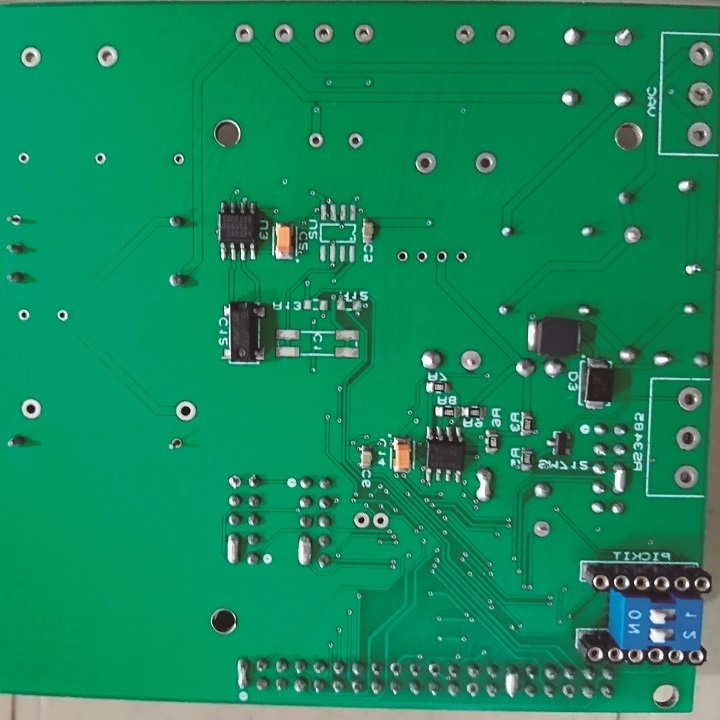F: (687, 40, 716, 68), (686, 120, 713, 150), (687, 80, 715, 108), (677, 424, 702, 455), (676, 383, 702, 411), (674, 462, 699, 491), (458, 346, 484, 372), (174, 399, 199, 426), (413, 150, 438, 176), (19, 398, 45, 423), (96, 46, 123, 69), (19, 46, 43, 70), (475, 151, 499, 175), (452, 23, 477, 46), (618, 223, 642, 246), (233, 22, 257, 44), (312, 24, 335, 46), (612, 27, 635, 49), (496, 23, 516, 48), (533, 518, 552, 542), (352, 510, 372, 531), (353, 24, 374, 43), (275, 23, 293, 44), (372, 509, 388, 532), (347, 131, 364, 152), (166, 434, 184, 453), (17, 306, 33, 326), (464, 682, 481, 698), (5, 212, 23, 227), (427, 661, 442, 679), (310, 132, 325, 149), (228, 474, 243, 491), (389, 660, 403, 678), (56, 308, 70, 324), (455, 250, 469, 266), (396, 249, 409, 266), (563, 682, 575, 700), (435, 249, 446, 266), (172, 152, 185, 166), (16, 152, 30, 165), (416, 250, 428, 265), (95, 154, 107, 166)
P: (232, 655, 252, 694), (223, 529, 242, 569), (501, 663, 519, 702), (296, 531, 313, 571), (476, 466, 493, 506), (612, 461, 630, 497)
